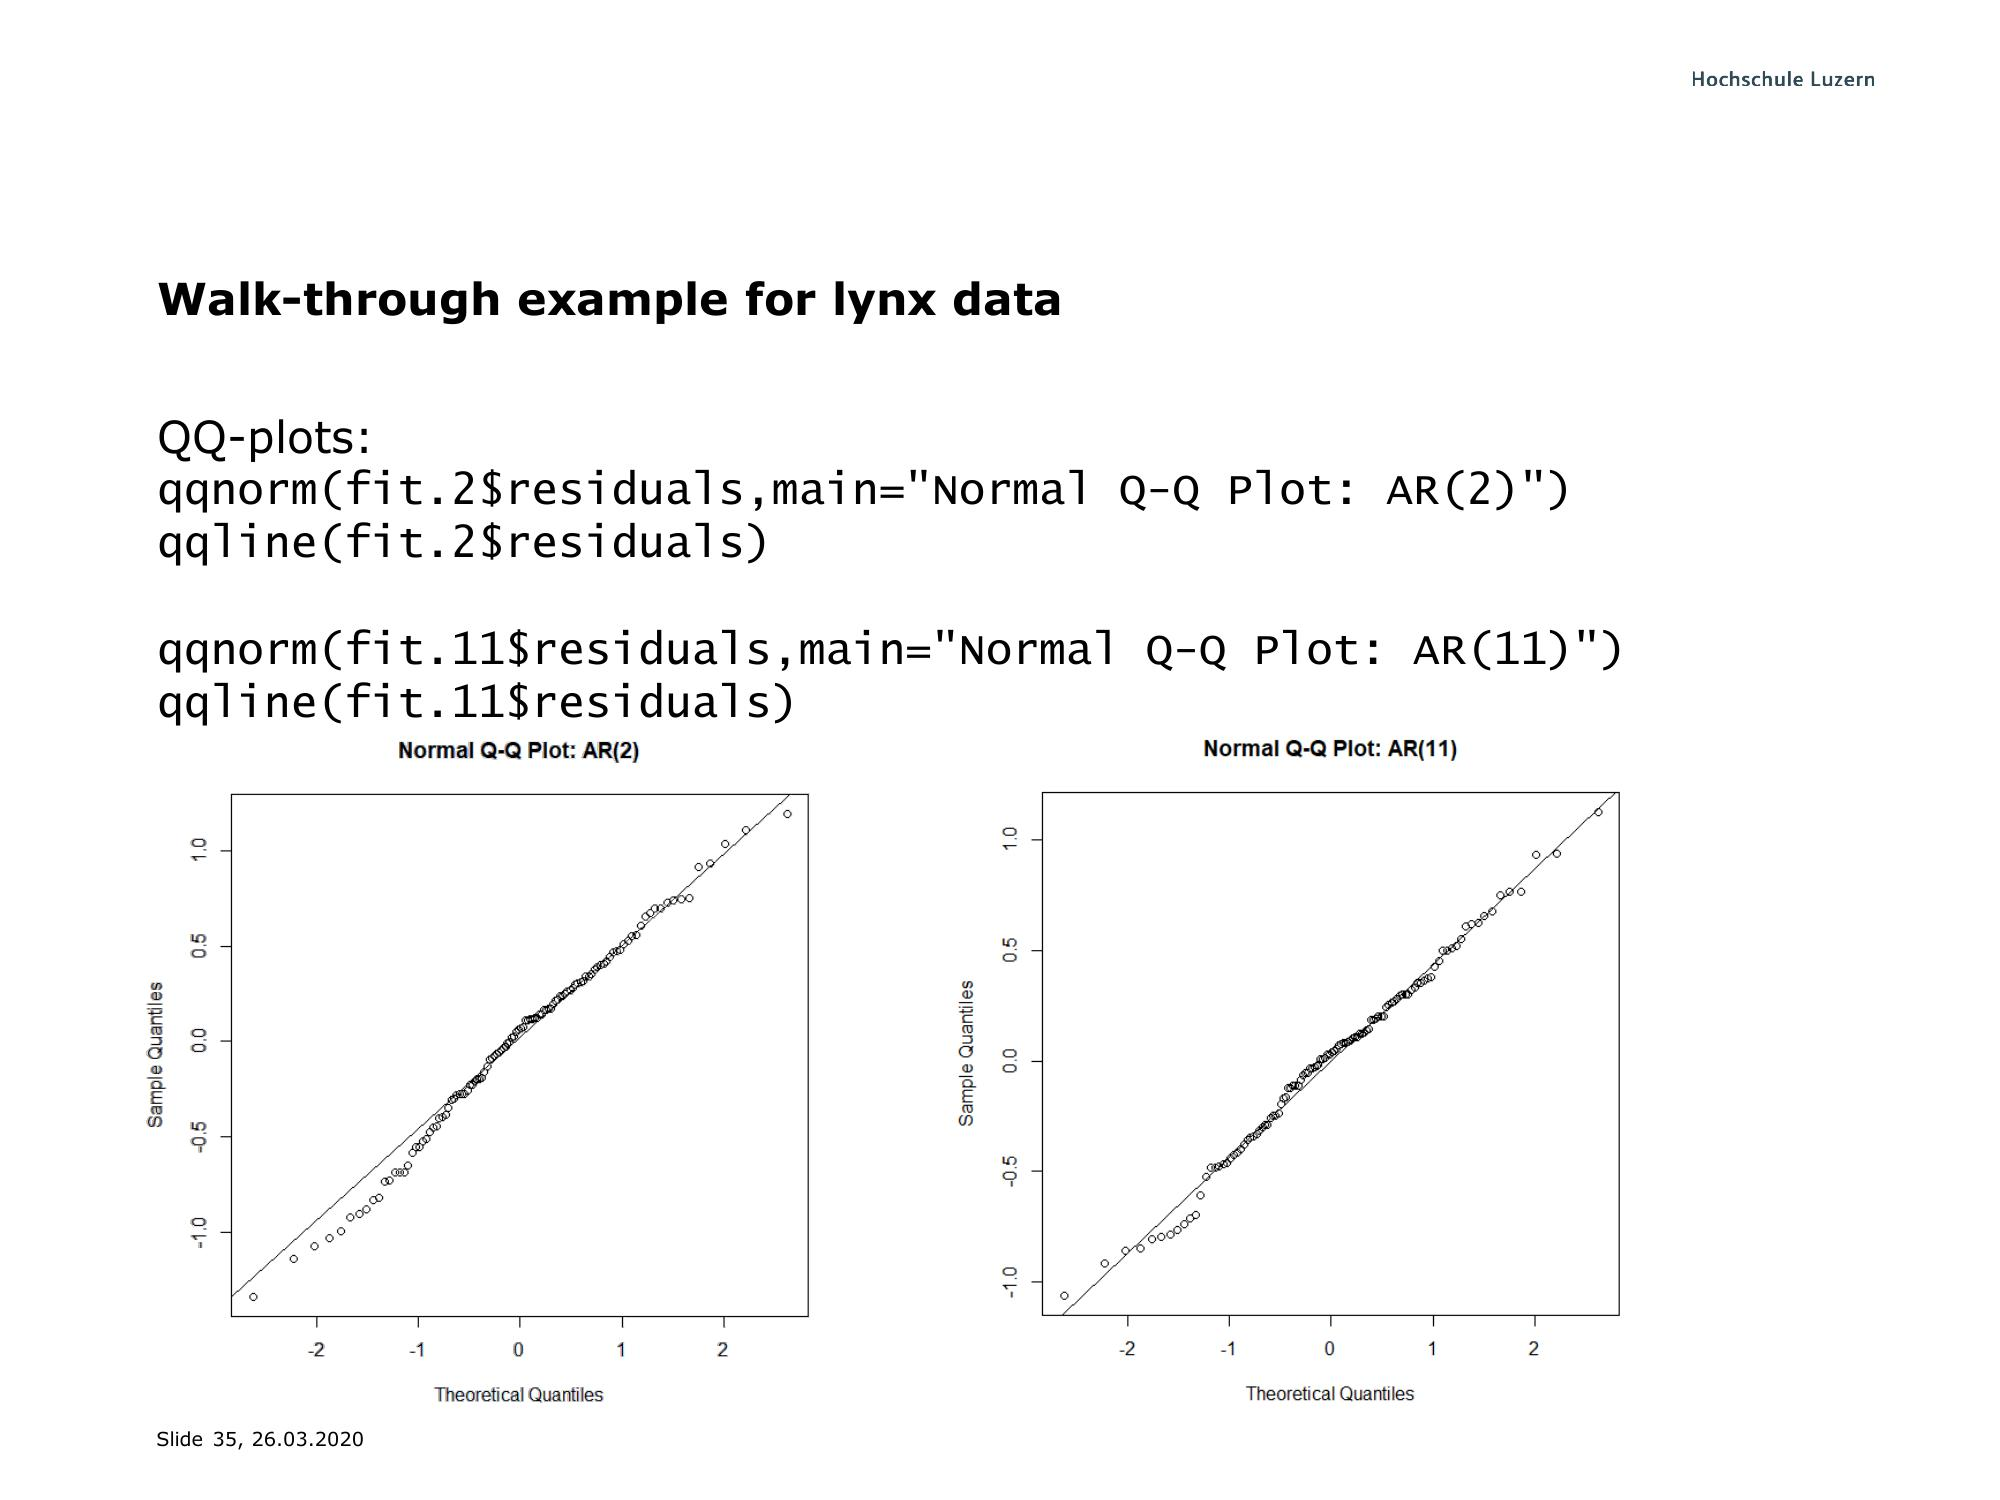Title: (124, 254, 1077, 336)
